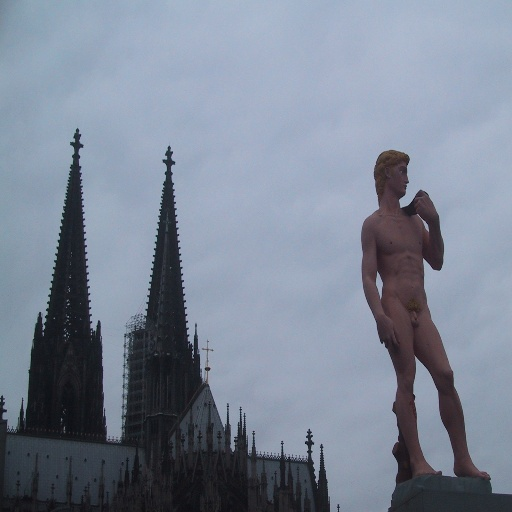hand: (411, 186, 438, 225), (378, 316, 399, 347)
